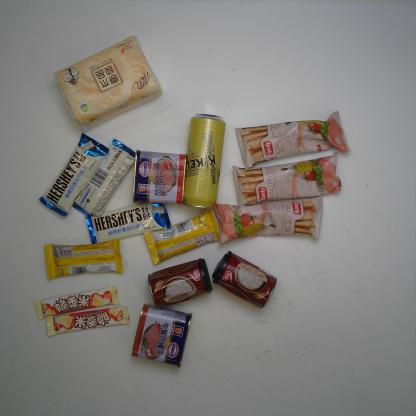Alcohol: (181, 112, 225, 211)
Canned Food: (129, 303, 193, 368), (210, 250, 278, 308), (147, 255, 213, 310), (130, 148, 189, 208)
Chocolate: (39, 134, 109, 218), (69, 138, 136, 219), (142, 206, 223, 268), (83, 196, 173, 245), (42, 239, 125, 281), (32, 286, 120, 320), (45, 306, 131, 338)
Dessert: (232, 110, 351, 168), (232, 151, 342, 209), (212, 201, 324, 244)
Tissue: (53, 34, 163, 132)
